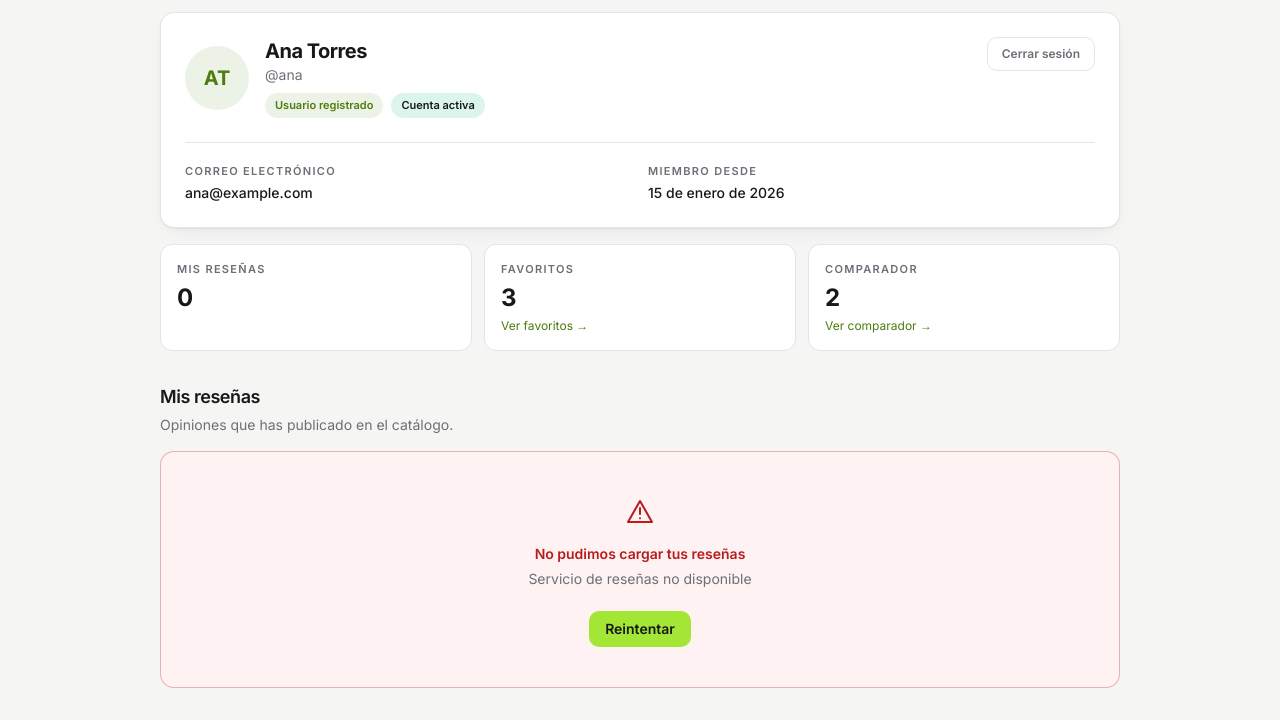
PerfilCliente › muestra el error de reseñas con reintento y recupera la lista
(page scrolled)
Check: the message shows "Servicio de reseñas no disponible", box [528, 570, 752, 587]
Click the button "Reintentar". click: (640, 628)
box: [589, 610, 691, 646]
(page scrolled)
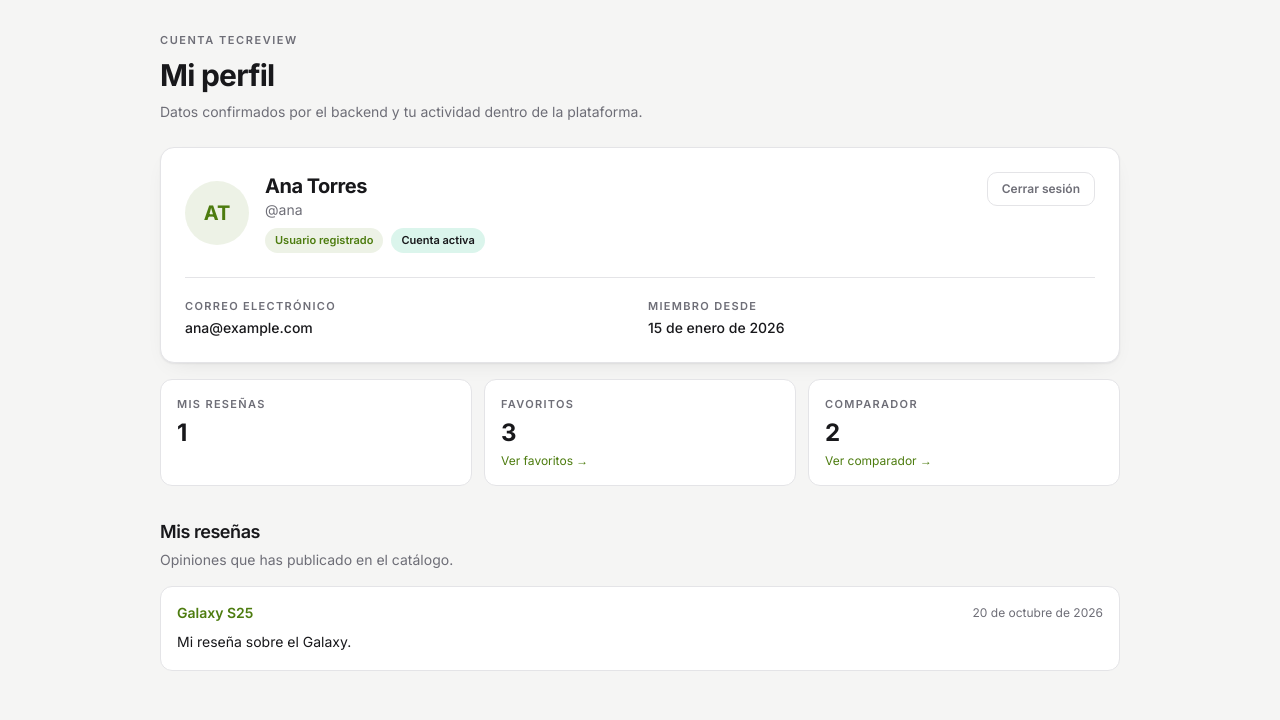
Check: the text "Mi reseña sobre el Galaxy." is shown, box [177, 633, 351, 650]
